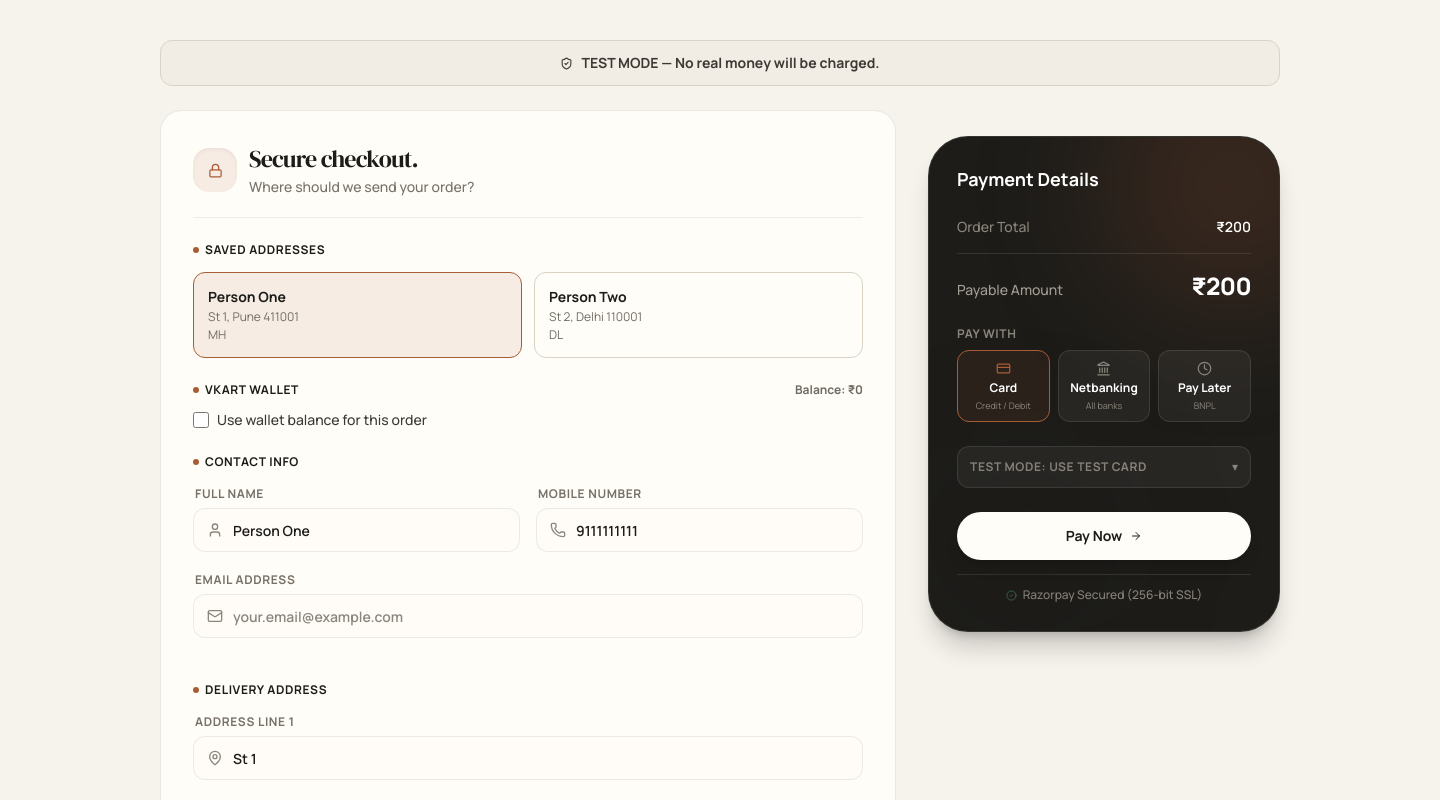
Test: CheckoutForm Component › selecting a different saved address fills the form with its details
Check: the field labelled "Full Name" holds "Person One", box [193, 508, 520, 552]
Click the text "Person Two" at (588, 296), box [549, 287, 627, 306]
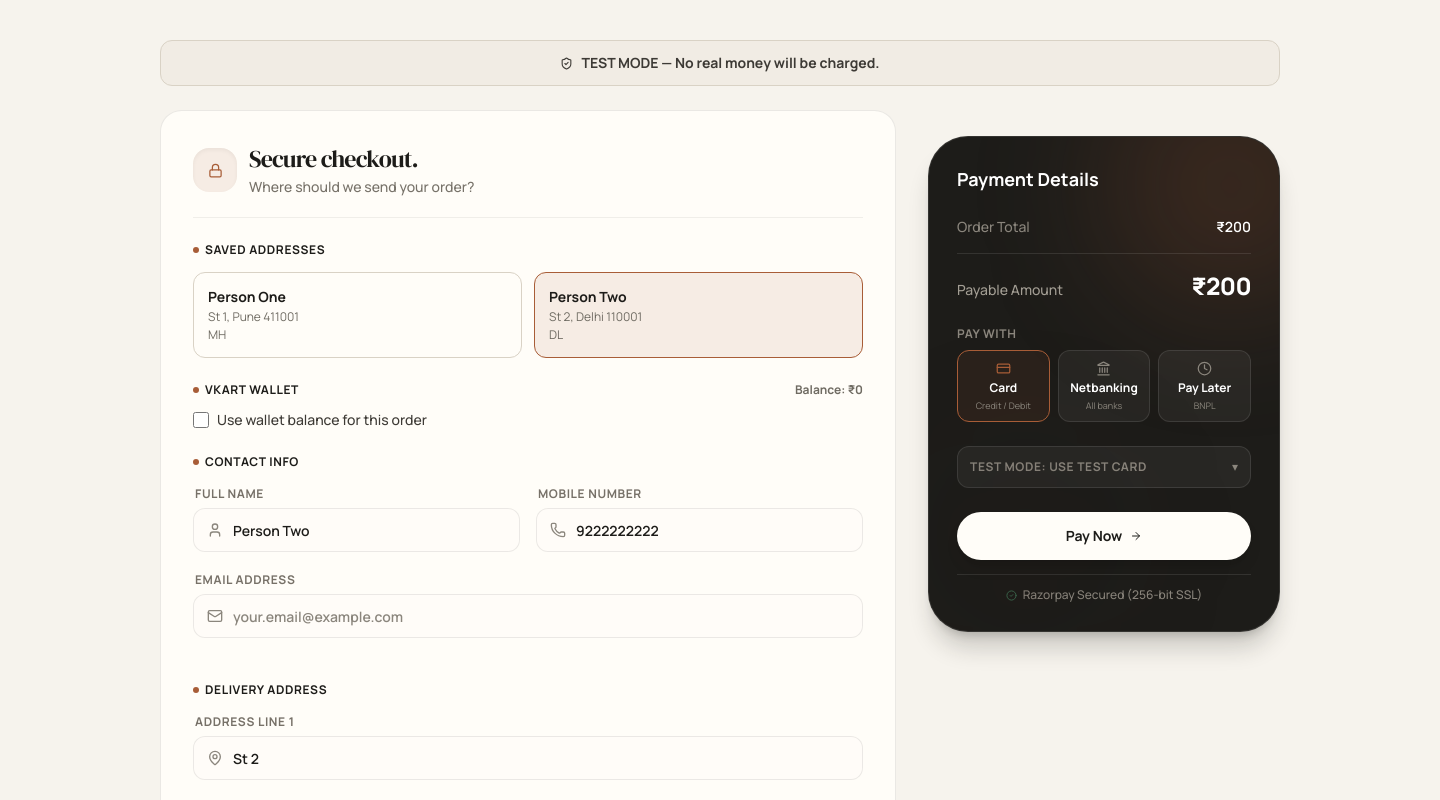
Check: the field labelled "Full Name" holds "Person Two", box [193, 508, 520, 552]
Check: the field labelled "Mobile Number" holds "9222222222", box [536, 508, 863, 552]
